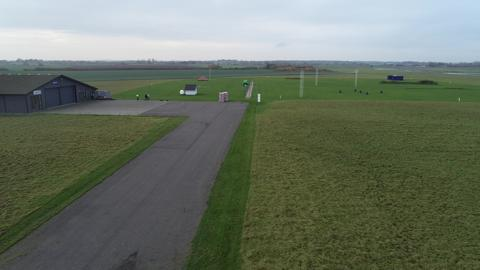RockwoolPallet: (223, 90, 231, 102)
